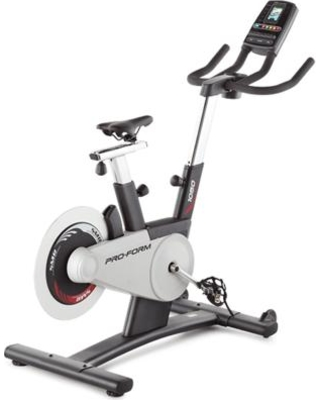gym_bike: (9, 4, 315, 388)
